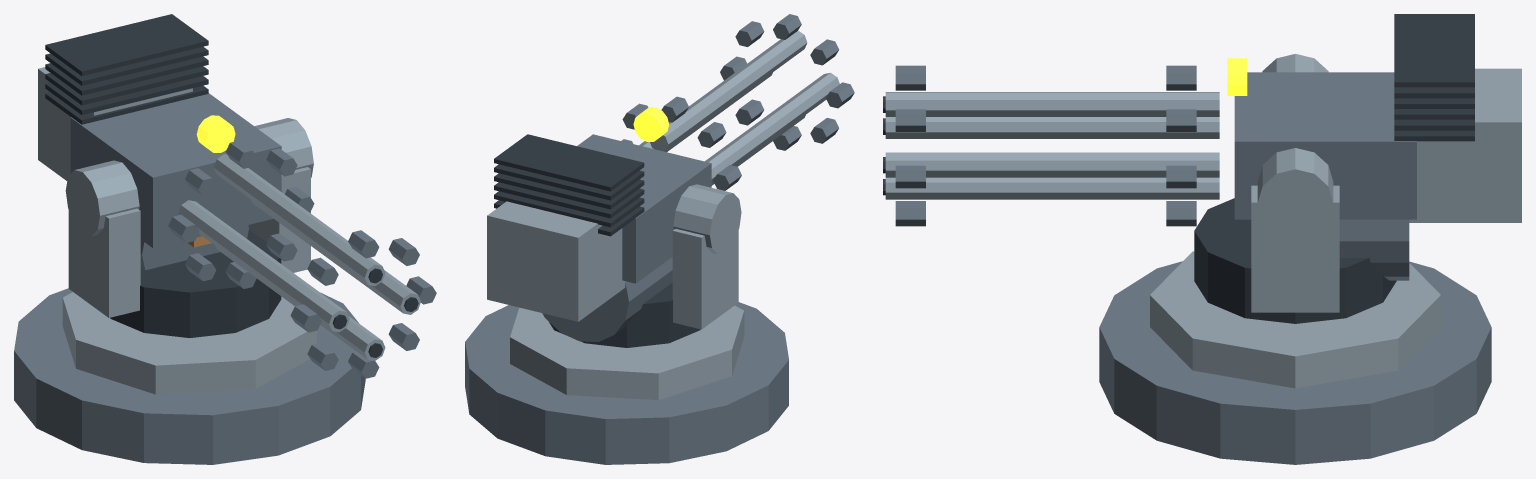
File: rotor_t2.glb
The picture shows the model from 3 angles, left to right: view 1: azimuth 30°, elevation 25°; view 2: azimuth 150°, elevation 25°; view 3: azimuth 270°, elevation 25°; orthographic projection. The views are drawn at different scales.
Parts seen in each view (by area): view 1: Foundation, Receiver, Base upper armor, Rear radiator (×6), Rotary barrel (×4), Yaw bearing, Cage fastener (×15), Elevation fork (×2), Trunnion (×2), Rear equipment, Ammunition drum, Tracking lens; view 2: Foundation, Base upper armor, Rear equipment, Rear radiator (×6), Rotary barrel (×2), Receiver, Elevation fork, Cage fastener (×10), Ammunition drum, Trunnion, Yaw bearing, Tracking lens; view 3: Foundation, Rotary barrel (×4), Base upper armor, Receiver, Rear equipment, Rear radiator (×6), Yaw bearing, Elevation fork, Trunnion (×2), Cage fastener (×8), Ammunition drum, Tracking lens.
Part boxes in pixels (x1,y1,x2,y2): Foundation: (14, 288, 365, 464); Receiver: (70, 93, 281, 247); Base upper armor: (62, 292, 316, 394); Rear radiator (×6): (45, 14, 208, 124); Rotary barrel (×4): (178, 154, 420, 360); Yaw bearing: (110, 230, 281, 337); Cage fastener (×15): (168, 140, 436, 378); Elevation fork (×2): (68, 167, 310, 317); Trunnion (×2): (65, 118, 313, 236); Rear equipment: (38, 67, 192, 180); Ammunition drum: (140, 225, 248, 270); Tracking lens: (196, 115, 235, 152); Foundation: (465, 302, 788, 464); Base upper armor: (510, 305, 744, 399); Rear equipment: (487, 201, 625, 321); Rear radiator (×6): (494, 134, 644, 236); Rotary barrel (×2): (650, 30, 839, 183); Receiver: (577, 134, 711, 283); Elevation fork: (672, 228, 738, 329); Cage fastener (×10): (661, 14, 854, 190); Ammunition drum: (542, 257, 672, 341); Trunnion: (673, 184, 741, 254); Yaw bearing: (549, 282, 700, 347); Tracking lens: (633, 107, 669, 141); Foundation: (1099, 261, 1491, 464); Rotary barrel (×4): (885, 92, 1219, 199); Base upper armor: (1150, 251, 1440, 388); Receiver: (1234, 72, 1416, 219); Rear equipment: (1409, 68, 1521, 222); Rear radiator (×6): (1394, 14, 1474, 141); Yaw bearing: (1194, 198, 1396, 323); Elevation fork: (1251, 185, 1339, 312); Trunnion (×2): (1257, 54, 1333, 237); Cage fastener (×8): (895, 68, 1196, 226); Ammunition drum: (1339, 219, 1409, 280); Tracking lens: (1227, 58, 1247, 95).
Size of the model in its own units: 1.55 by 1.46 by 2.52.
